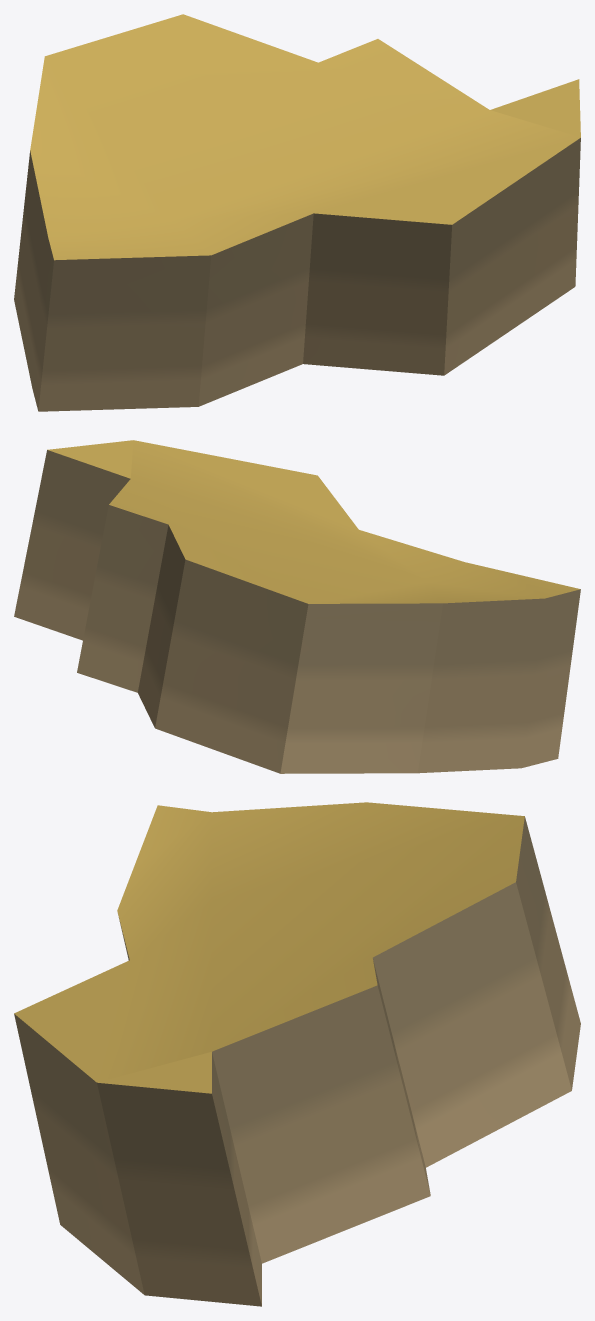
The model's file is 0659_Burkina_Faso.glb.
3 renders of one model, top to bottom at view 1: azimuth 30°, elevation 25°; view 2: azimuth 150°, elevation 25°; view 3: azimuth 270°, elevation 25°, orthographic. The views are drawn at different scales.
Parts seen in each view (by area): view 1: part_0; view 2: part_0; view 3: part_0.
Part boxes in pixels (bbox=[...]): part_0: bbox=[14, 14, 580, 411]; part_0: bbox=[14, 440, 580, 773]; part_0: bbox=[14, 802, 580, 1306].
Bounding box in the file's own units: 0.6865 × 0.2996 × 0.4899.
Materials: 1 (1 with a texture image).
